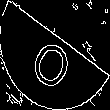O_NE: (29, 21, 81, 89)
